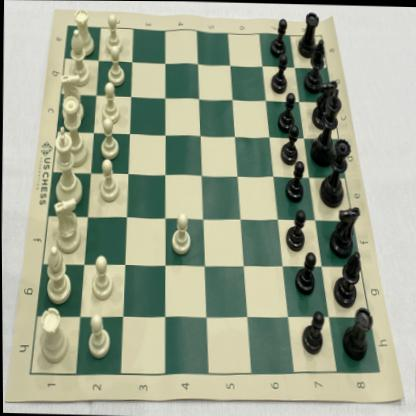black-bishop: (332, 248, 361, 308), (303, 35, 326, 94)
black-king: (309, 87, 341, 168)
black-knight: (329, 202, 359, 256), (310, 78, 339, 129)
black-pawn: (300, 310, 325, 356), (274, 123, 299, 166), (293, 250, 316, 296), (283, 208, 306, 252), (283, 160, 305, 203), (275, 91, 296, 134), (267, 53, 288, 95), (268, 15, 286, 58)
black-queen: (318, 135, 350, 207)
black-rook: (340, 305, 374, 362), (296, 10, 320, 59)
white-bishop: (41, 244, 72, 305), (65, 25, 91, 86)
white-king: (50, 124, 83, 207)
white-knight: (47, 194, 81, 253), (58, 71, 84, 123)
white-pawn: (87, 251, 114, 301), (84, 311, 112, 358), (96, 156, 121, 203), (169, 208, 192, 257), (98, 81, 121, 125), (97, 116, 120, 160), (105, 44, 126, 89), (102, 12, 124, 54)
white-queen: (59, 95, 89, 169)
white-rook: (36, 306, 71, 366), (70, 8, 95, 58)
